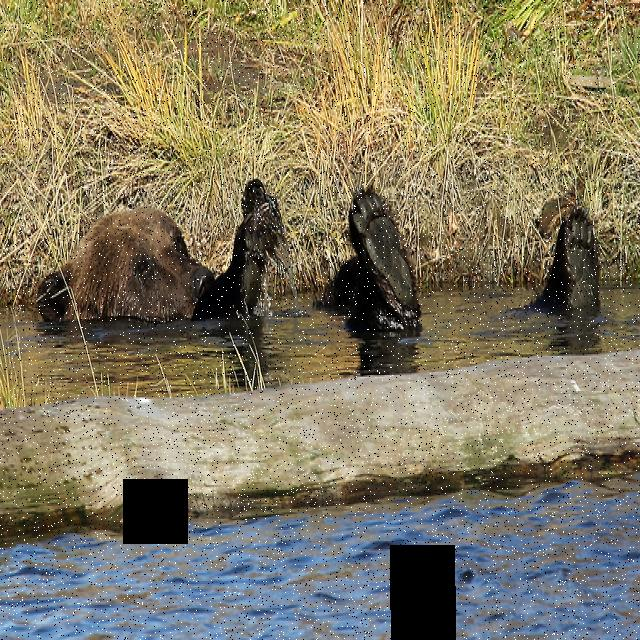Bear: (34, 170, 601, 333)
